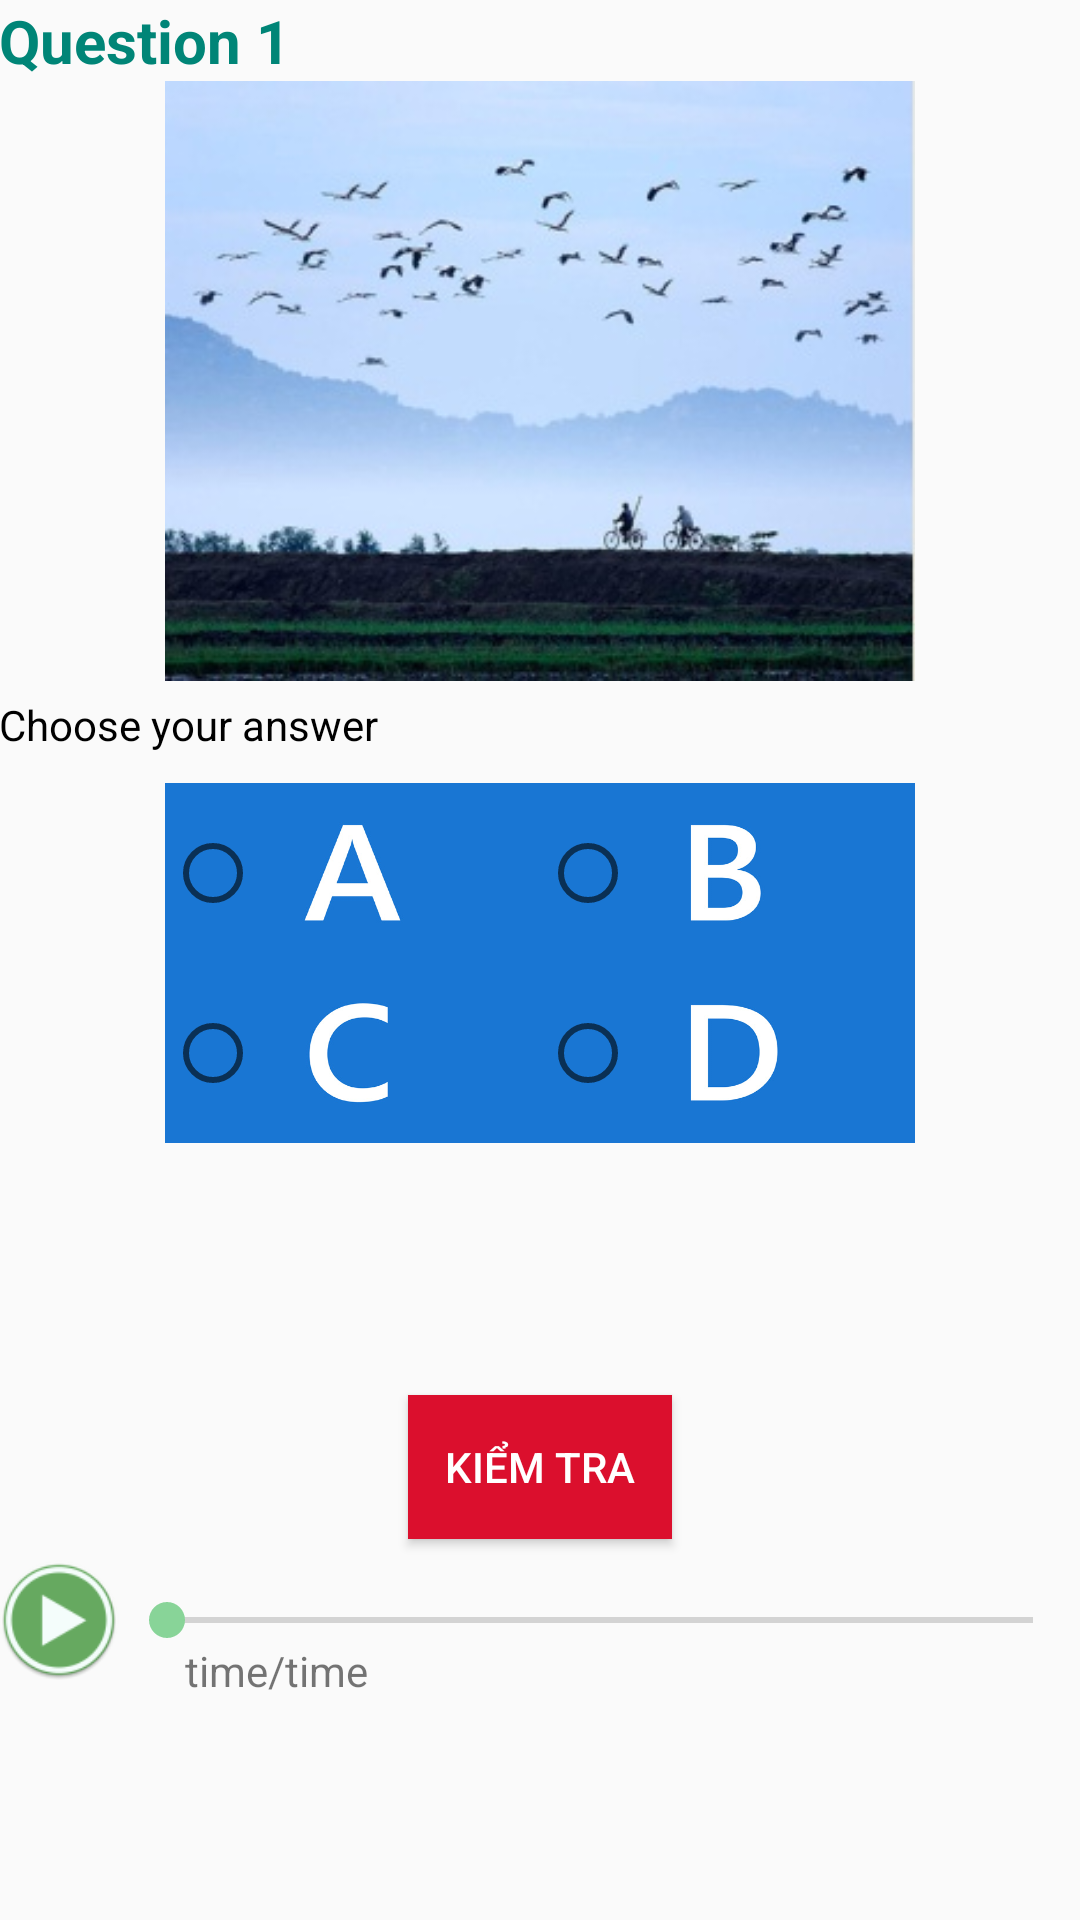

Screen size 1080px×1920px. Icon name, then its box in pixels as Rect(x1, y1, x2, y2):
play: Rect(3, 1564, 115, 1678)
